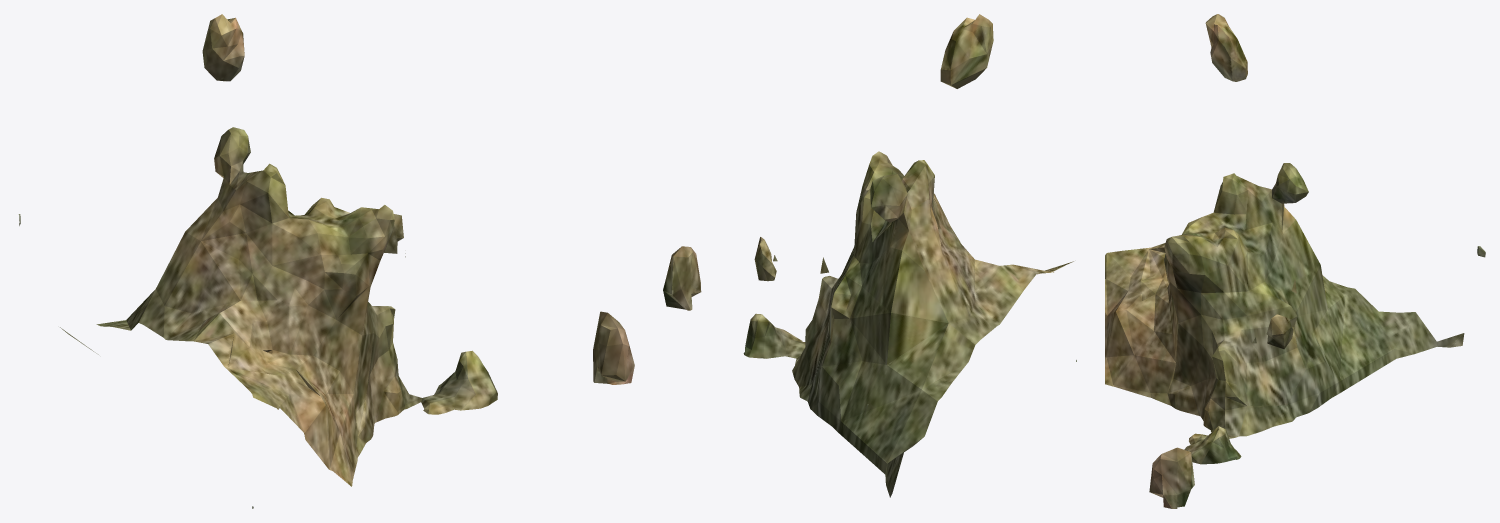
3 views of the same model, side by side, from view 1: azimuth 30°, elevation 25°; view 2: azimuth 150°, elevation 25°; view 3: azimuth 270°, elevation 25° (orthographic). The views are drawn at different scales.
Size of the model in its own units: 5.04 by 5.01 by 4.98.
2 materials, 2 textured.
